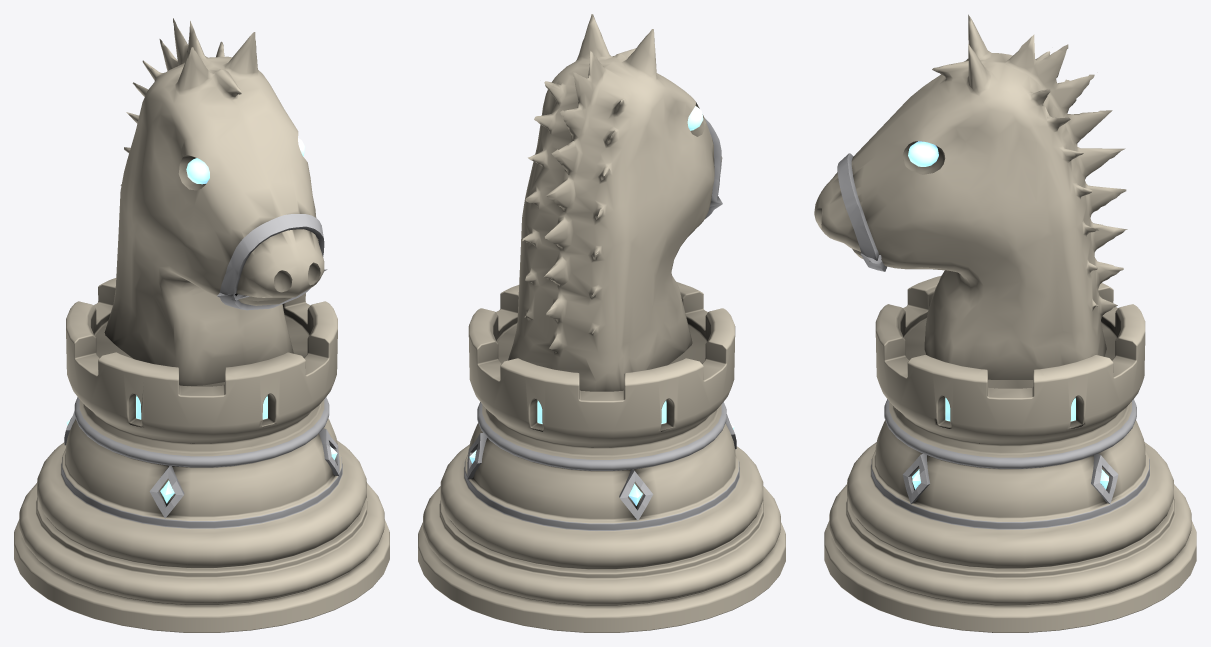
File: kniroo.glb
3 renders of one model, left to right at view 1: azimuth 30°, elevation 25°; view 2: azimuth 150°, elevation 25°; view 3: azimuth 270°, elevation 25°, orthographic. The views are drawn at different scales.
Visible parts, largest first — view 1: kniroo; view 2: kniroo; view 3: kniroo.
Part boxes in pixels (bbox=[...]): kniroo: bbox=[14, 18, 389, 632]; kniroo: bbox=[418, 14, 785, 632]; kniroo: bbox=[814, 14, 1196, 632].
Bounding box in the file's own units: 0.7372 × 1.15 × 0.7573.
